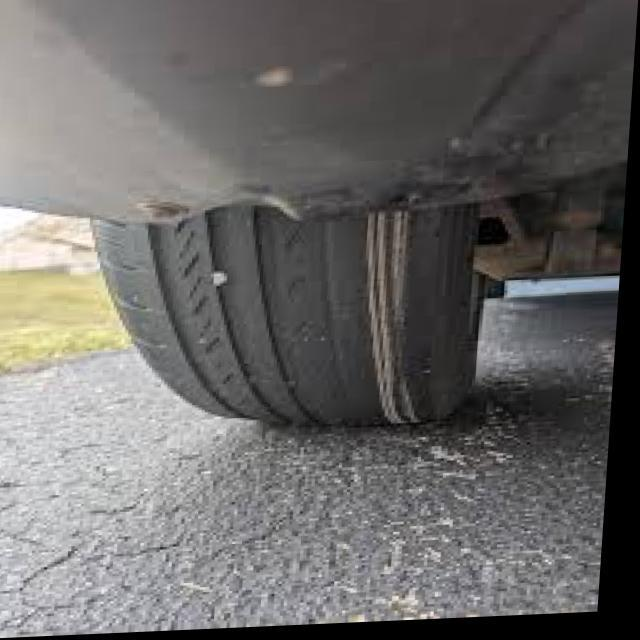Flat spots: (194, 207, 478, 414)
